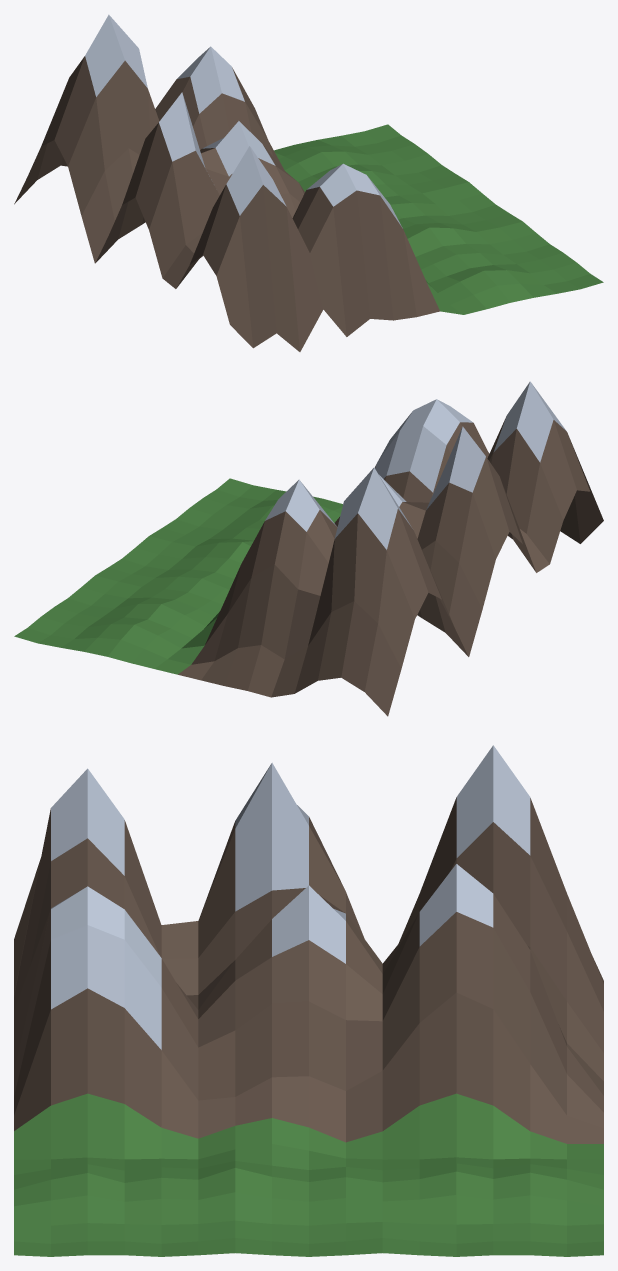
File: MountainModel.fbx
3 renders of one model, top to bottom at view 1: azimuth 30°, elevation 25°; view 2: azimuth 150°, elevation 25°; view 3: azimuth 270°, elevation 25°, orthographic. The views are drawn at different scales.
Parts seen in each view (by area): view 1: Plane; view 2: Plane; view 3: Plane.
Boxes of the visible parts, x1,y1,x2,y2 form: Plane: [14, 14, 603, 351]; Plane: [14, 381, 603, 716]; Plane: [14, 745, 603, 1256].
Bounding box in the file's own units: 1000 × 564 × 1000.
